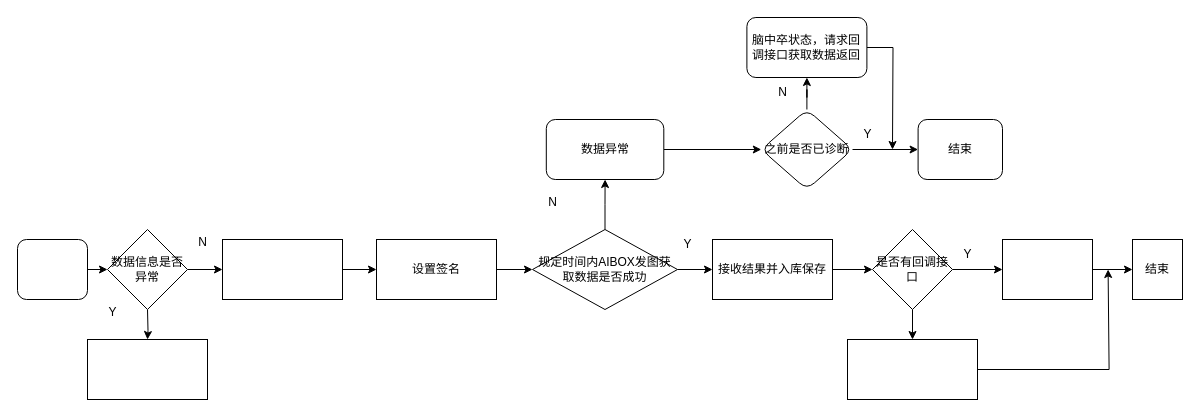
Image size: 1200x417. Some labels were removed from this diagram. Here are the shapes that lost their labels. From the top down, the centre of each, then its label:
At point 52,269: "开始".
At point 282,269: "压缩并保存在本地文件夹中".
At point 1047,269: "获取aibox结果".
At point 147,369: "异常结束".
At point 912,369: "访问接口获取数据".
